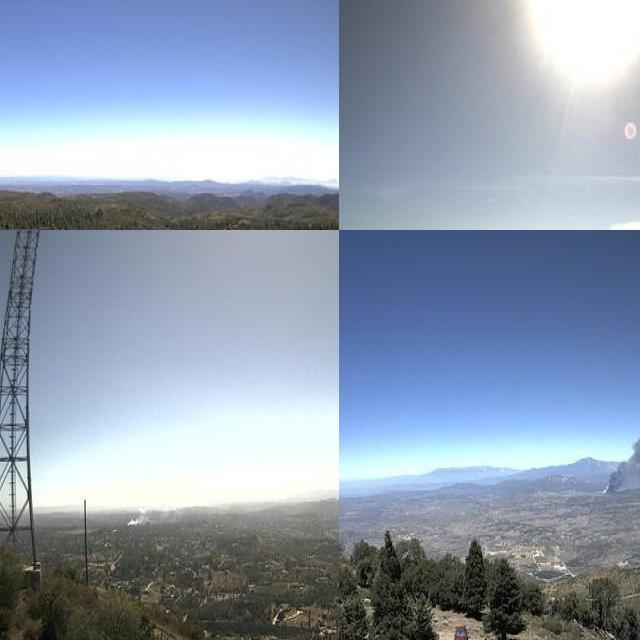smoke: (595, 425, 640, 500), (122, 497, 177, 526)
